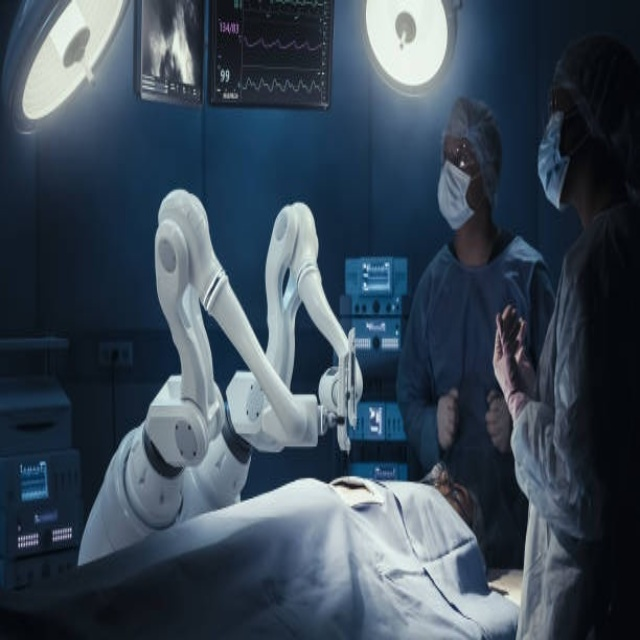Gafas: (443, 137, 482, 173), (547, 86, 582, 120)
Guantes: (496, 303, 534, 404), (484, 387, 510, 450), (437, 385, 460, 447)
Mascara: (536, 111, 576, 211), (437, 156, 482, 231)
